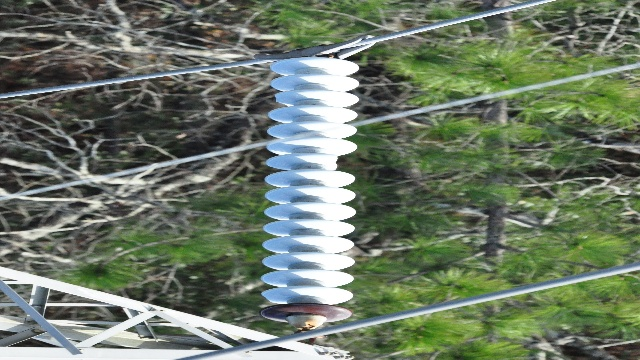broken_local: (260, 291, 287, 305), (326, 154, 344, 170), (273, 93, 294, 106)
insulator_unspecified: (259, 58, 359, 325)
